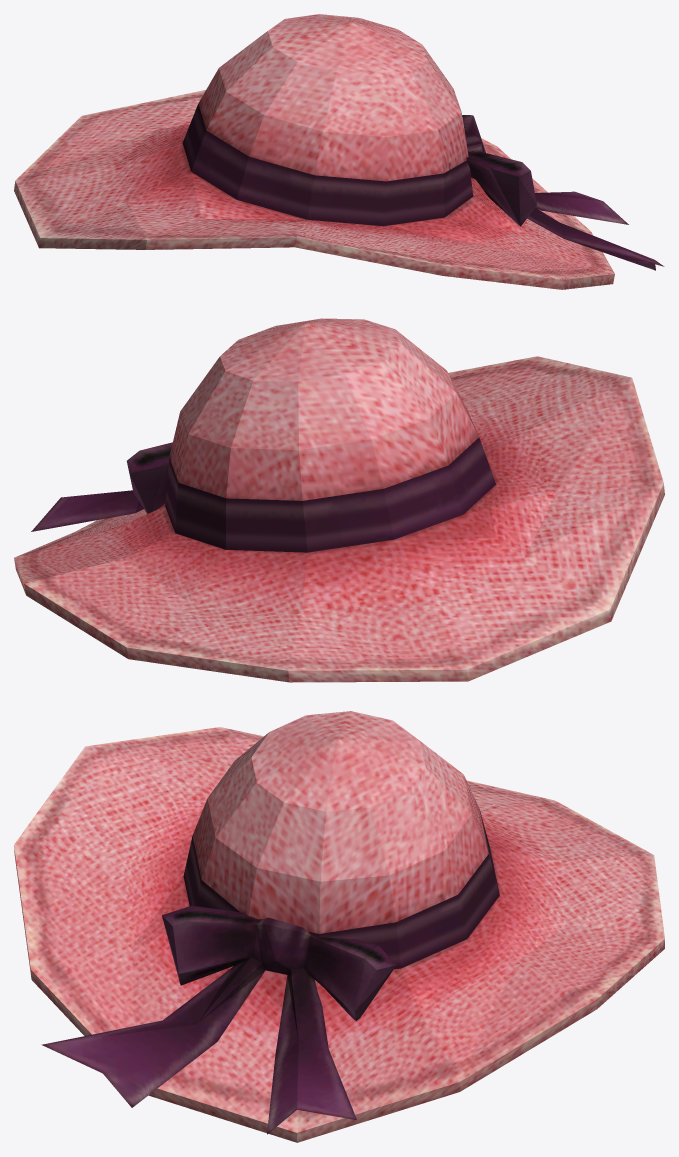
File: Bat_summerHat.obj
3 renders of one model, top to bottom at view 1: azimuth 30°, elevation 25°; view 2: azimuth 150°, elevation 25°; view 3: azimuth 270°, elevation 25°, orthographic. The views are drawn at different scales.
Parts seen in each view (by area): view 1: Bat_summerHat_tri; view 2: Bat_summerHat_tri; view 3: Bat_summerHat_tri.
Part boxes in pixels (left/top/right/bottom): Bat_summerHat_tri: left=14, top=14, right=664, bottom=289; Bat_summerHat_tri: left=14, top=318, right=664, bottom=682; Bat_summerHat_tri: left=14, top=711, right=664, bottom=1142.
Size of the model in its own units: 0.6655 by 0.3073 by 0.6354.
1 material, 1 textured.
